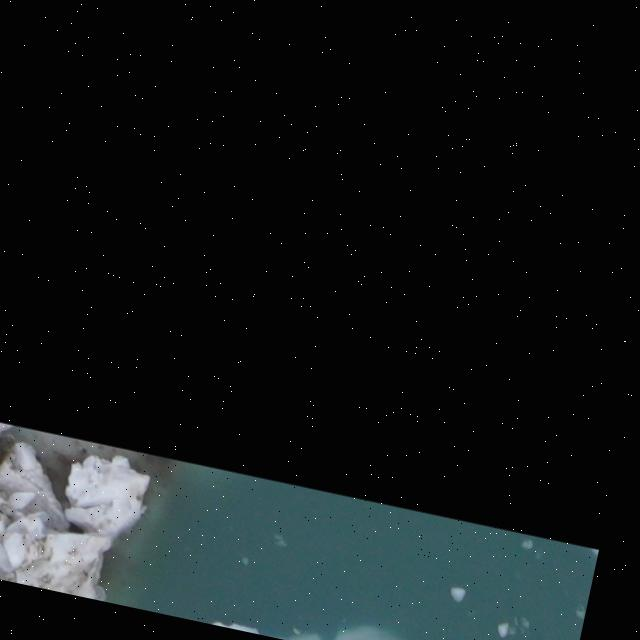seal: (0, 429, 23, 503)
